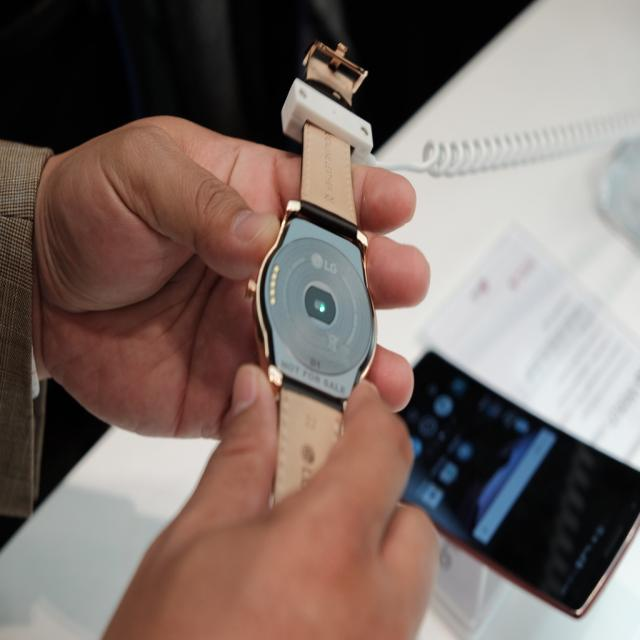Mobile-phone: (378, 336, 635, 608)
